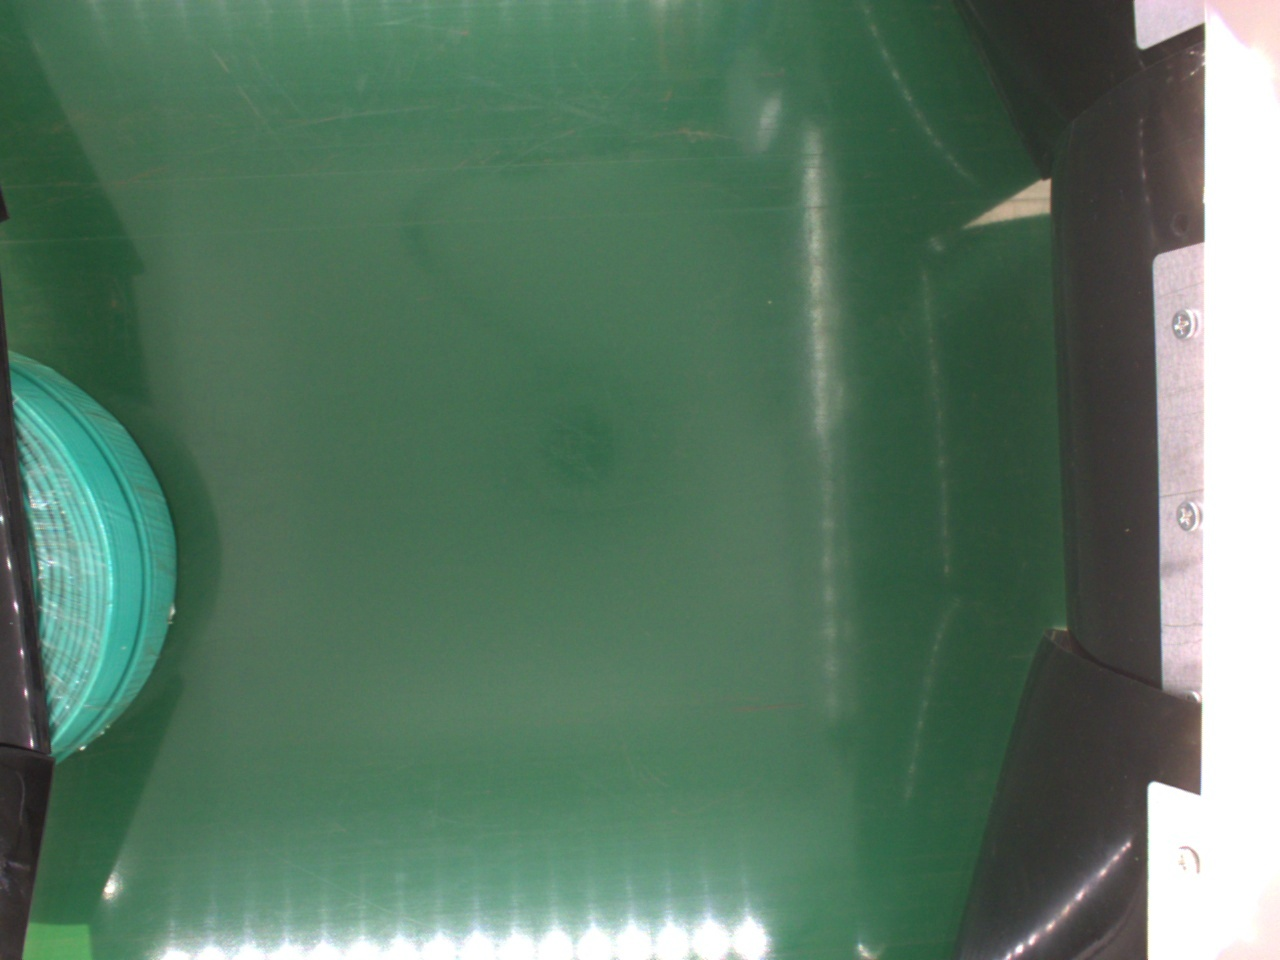green: (8, 348, 179, 765)
